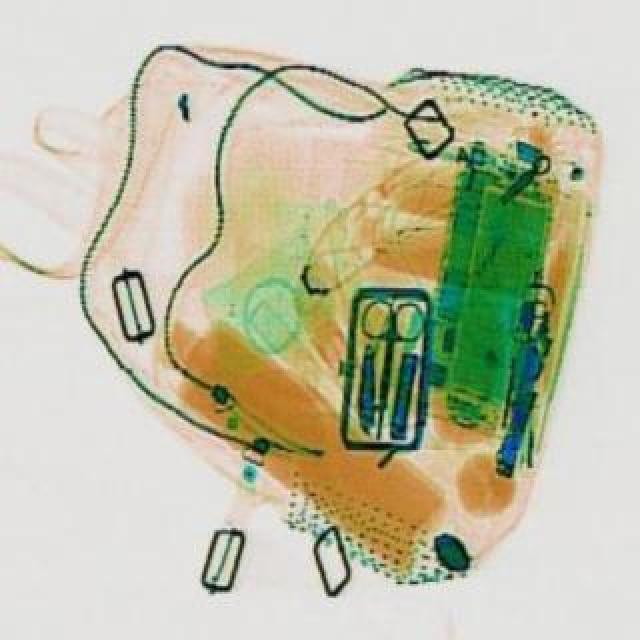pliers: (340, 294, 426, 438)
